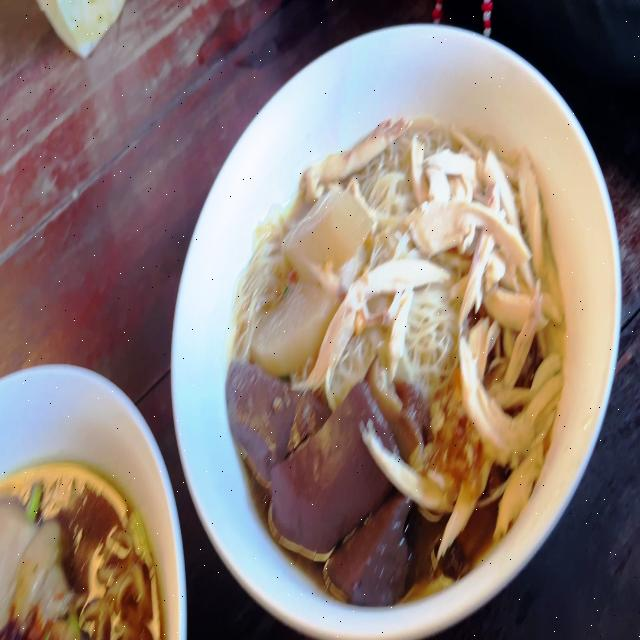boiled_chicken_blood_jelly: (235, 376, 401, 595)
chicken_drumstick: (0, 496, 72, 640)
chicken_shredded: (434, 147, 554, 435)
daikon_radish: (245, 274, 325, 365), (290, 176, 349, 264)
noodle: (224, 112, 568, 606), (0, 444, 168, 640)
